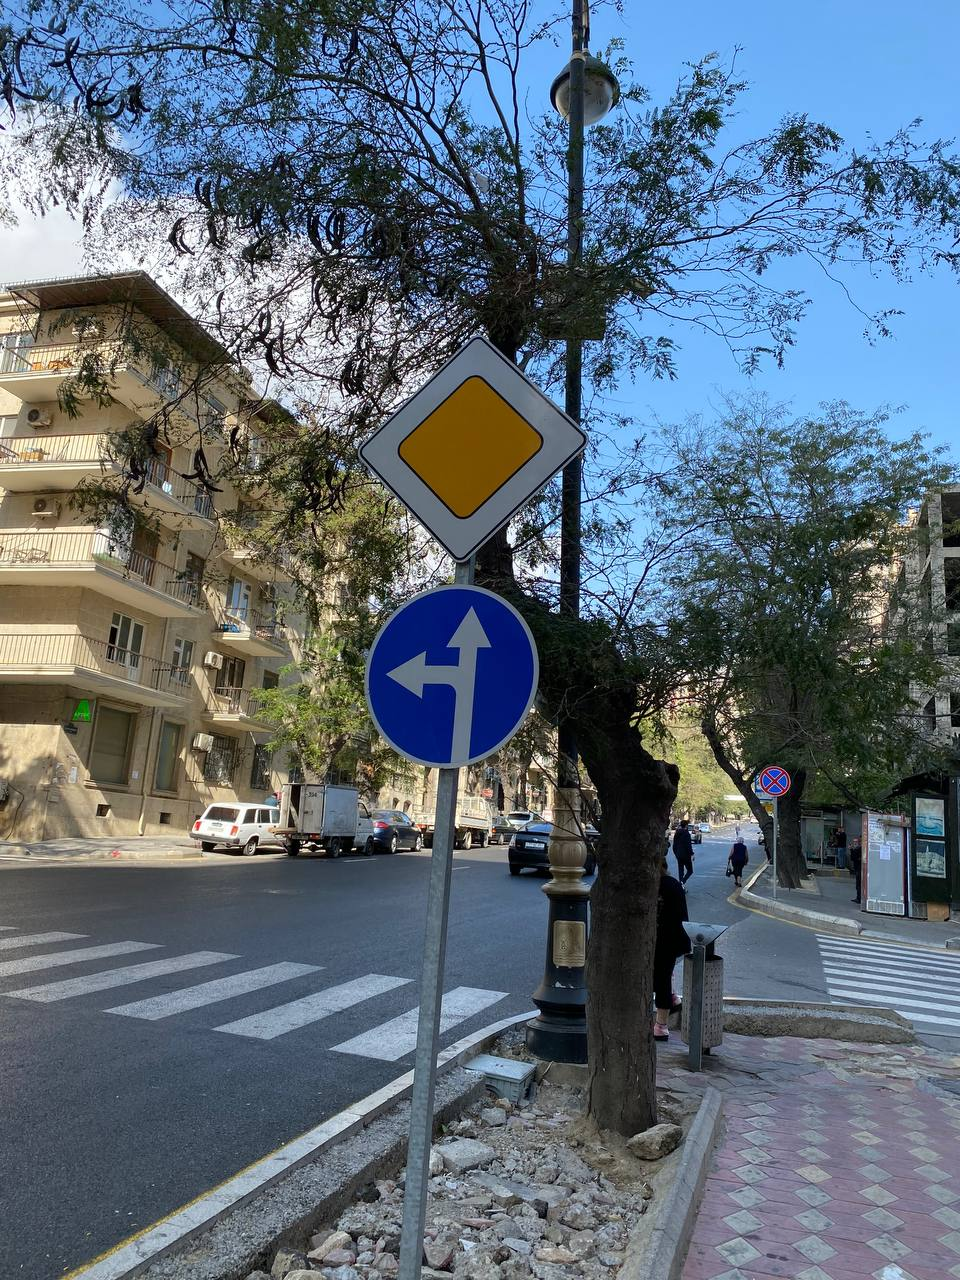Main Road: (357, 336, 587, 563)
No Parking: (758, 765, 790, 797)
Straight or Left: (366, 583, 541, 768)
